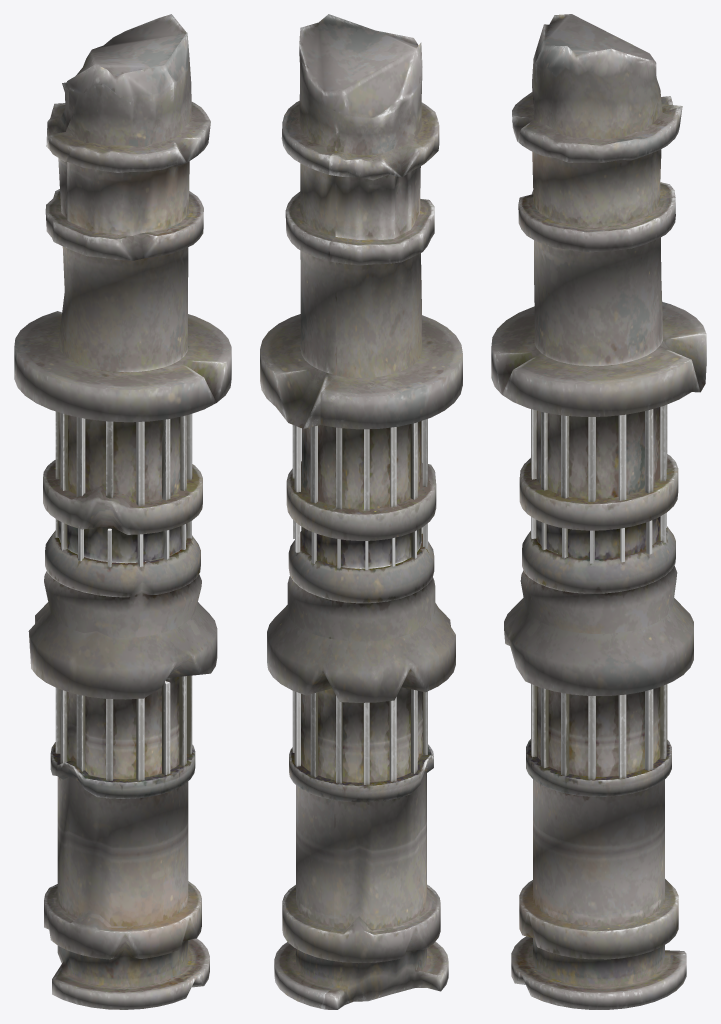
The picture shows the model from 3 angles, left to right: view 1: azimuth 30°, elevation 25°; view 2: azimuth 150°, elevation 25°; view 3: azimuth 270°, elevation 25°; orthographic projection.
Visible parts, largest first — view 1: 柱子.006; view 2: 柱子.006; view 3: 柱子.006.
Boxes of the visible parts, x1=… form: 柱子.006: x1=14, y1=14, x2=231, y2=1009; 柱子.006: x1=260, y1=14, x2=462, y2=1009; 柱子.006: x1=491, y1=14, x2=706, y2=1009.
Bounding box in the file's own units: 2206 × 10949 × 2242.
